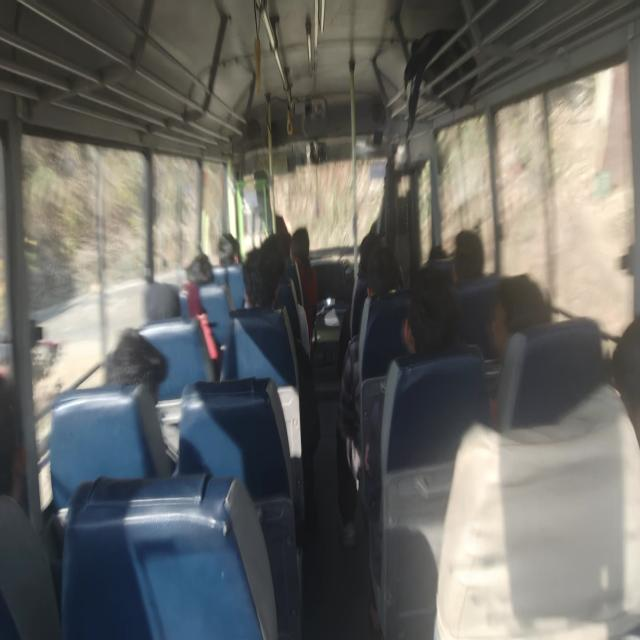person: (93, 334, 192, 420), (488, 278, 562, 393), (609, 287, 640, 453), (404, 293, 454, 367), (138, 272, 200, 331), (247, 255, 281, 325), (451, 240, 489, 286), (188, 255, 218, 298), (372, 257, 399, 301), (220, 232, 243, 275), (428, 234, 451, 272), (296, 230, 318, 264), (268, 232, 290, 264), (360, 240, 381, 262)
